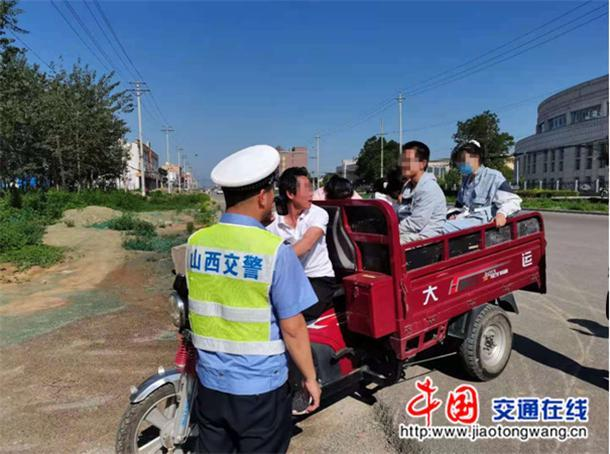driver: (245, 136, 348, 318)
overloading: (248, 132, 544, 396)
passenger: (352, 143, 451, 288), (434, 122, 511, 254)
